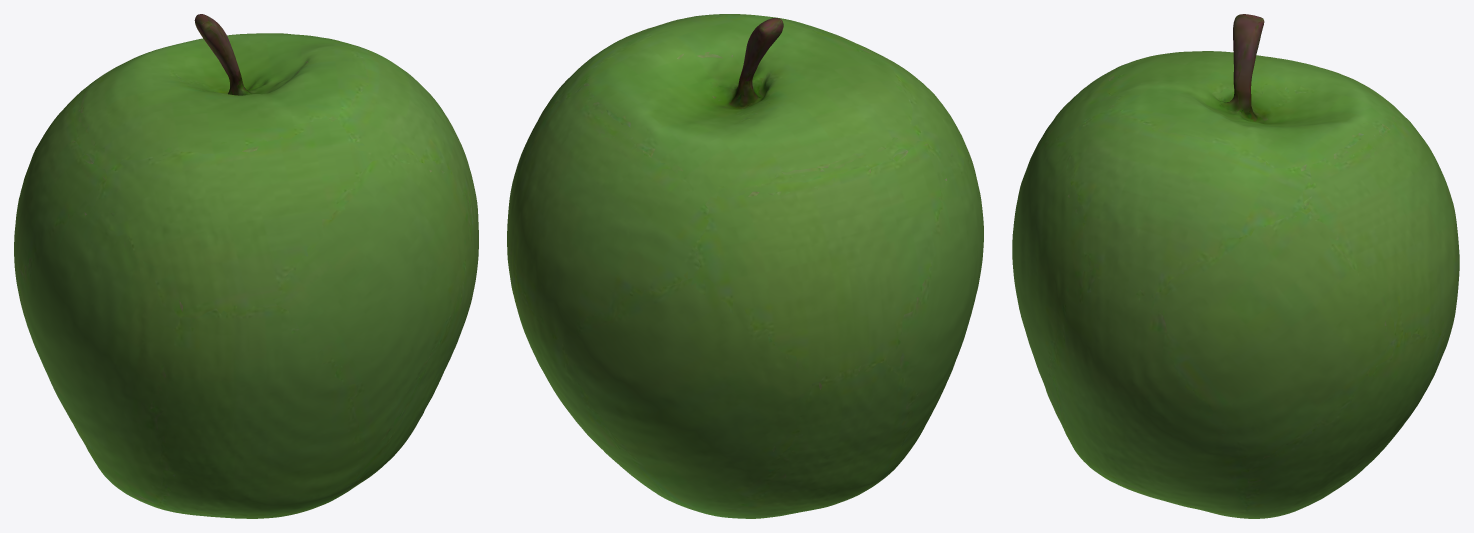
The model's file is apple.glb.
3 views of the same model, side by side, from view 1: azimuth 30°, elevation 25°; view 2: azimuth 150°, elevation 25°; view 3: azimuth 270°, elevation 25° (orthographic). The views are drawn at different scales.
Parts seen in each view (by area): view 1: Apple; view 2: Apple; view 3: Apple.
Part boxes in pixels (x1=…): Apple: x1=14, y1=14, x2=478, y2=518; Apple: x1=507, y1=14, x2=983, y2=518; Apple: x1=1012, y1=14, x2=1459, y2=518.
Bounding box in the file's own units: 0.9012 × 1 × 0.8824.
1 material, 1 textured.
